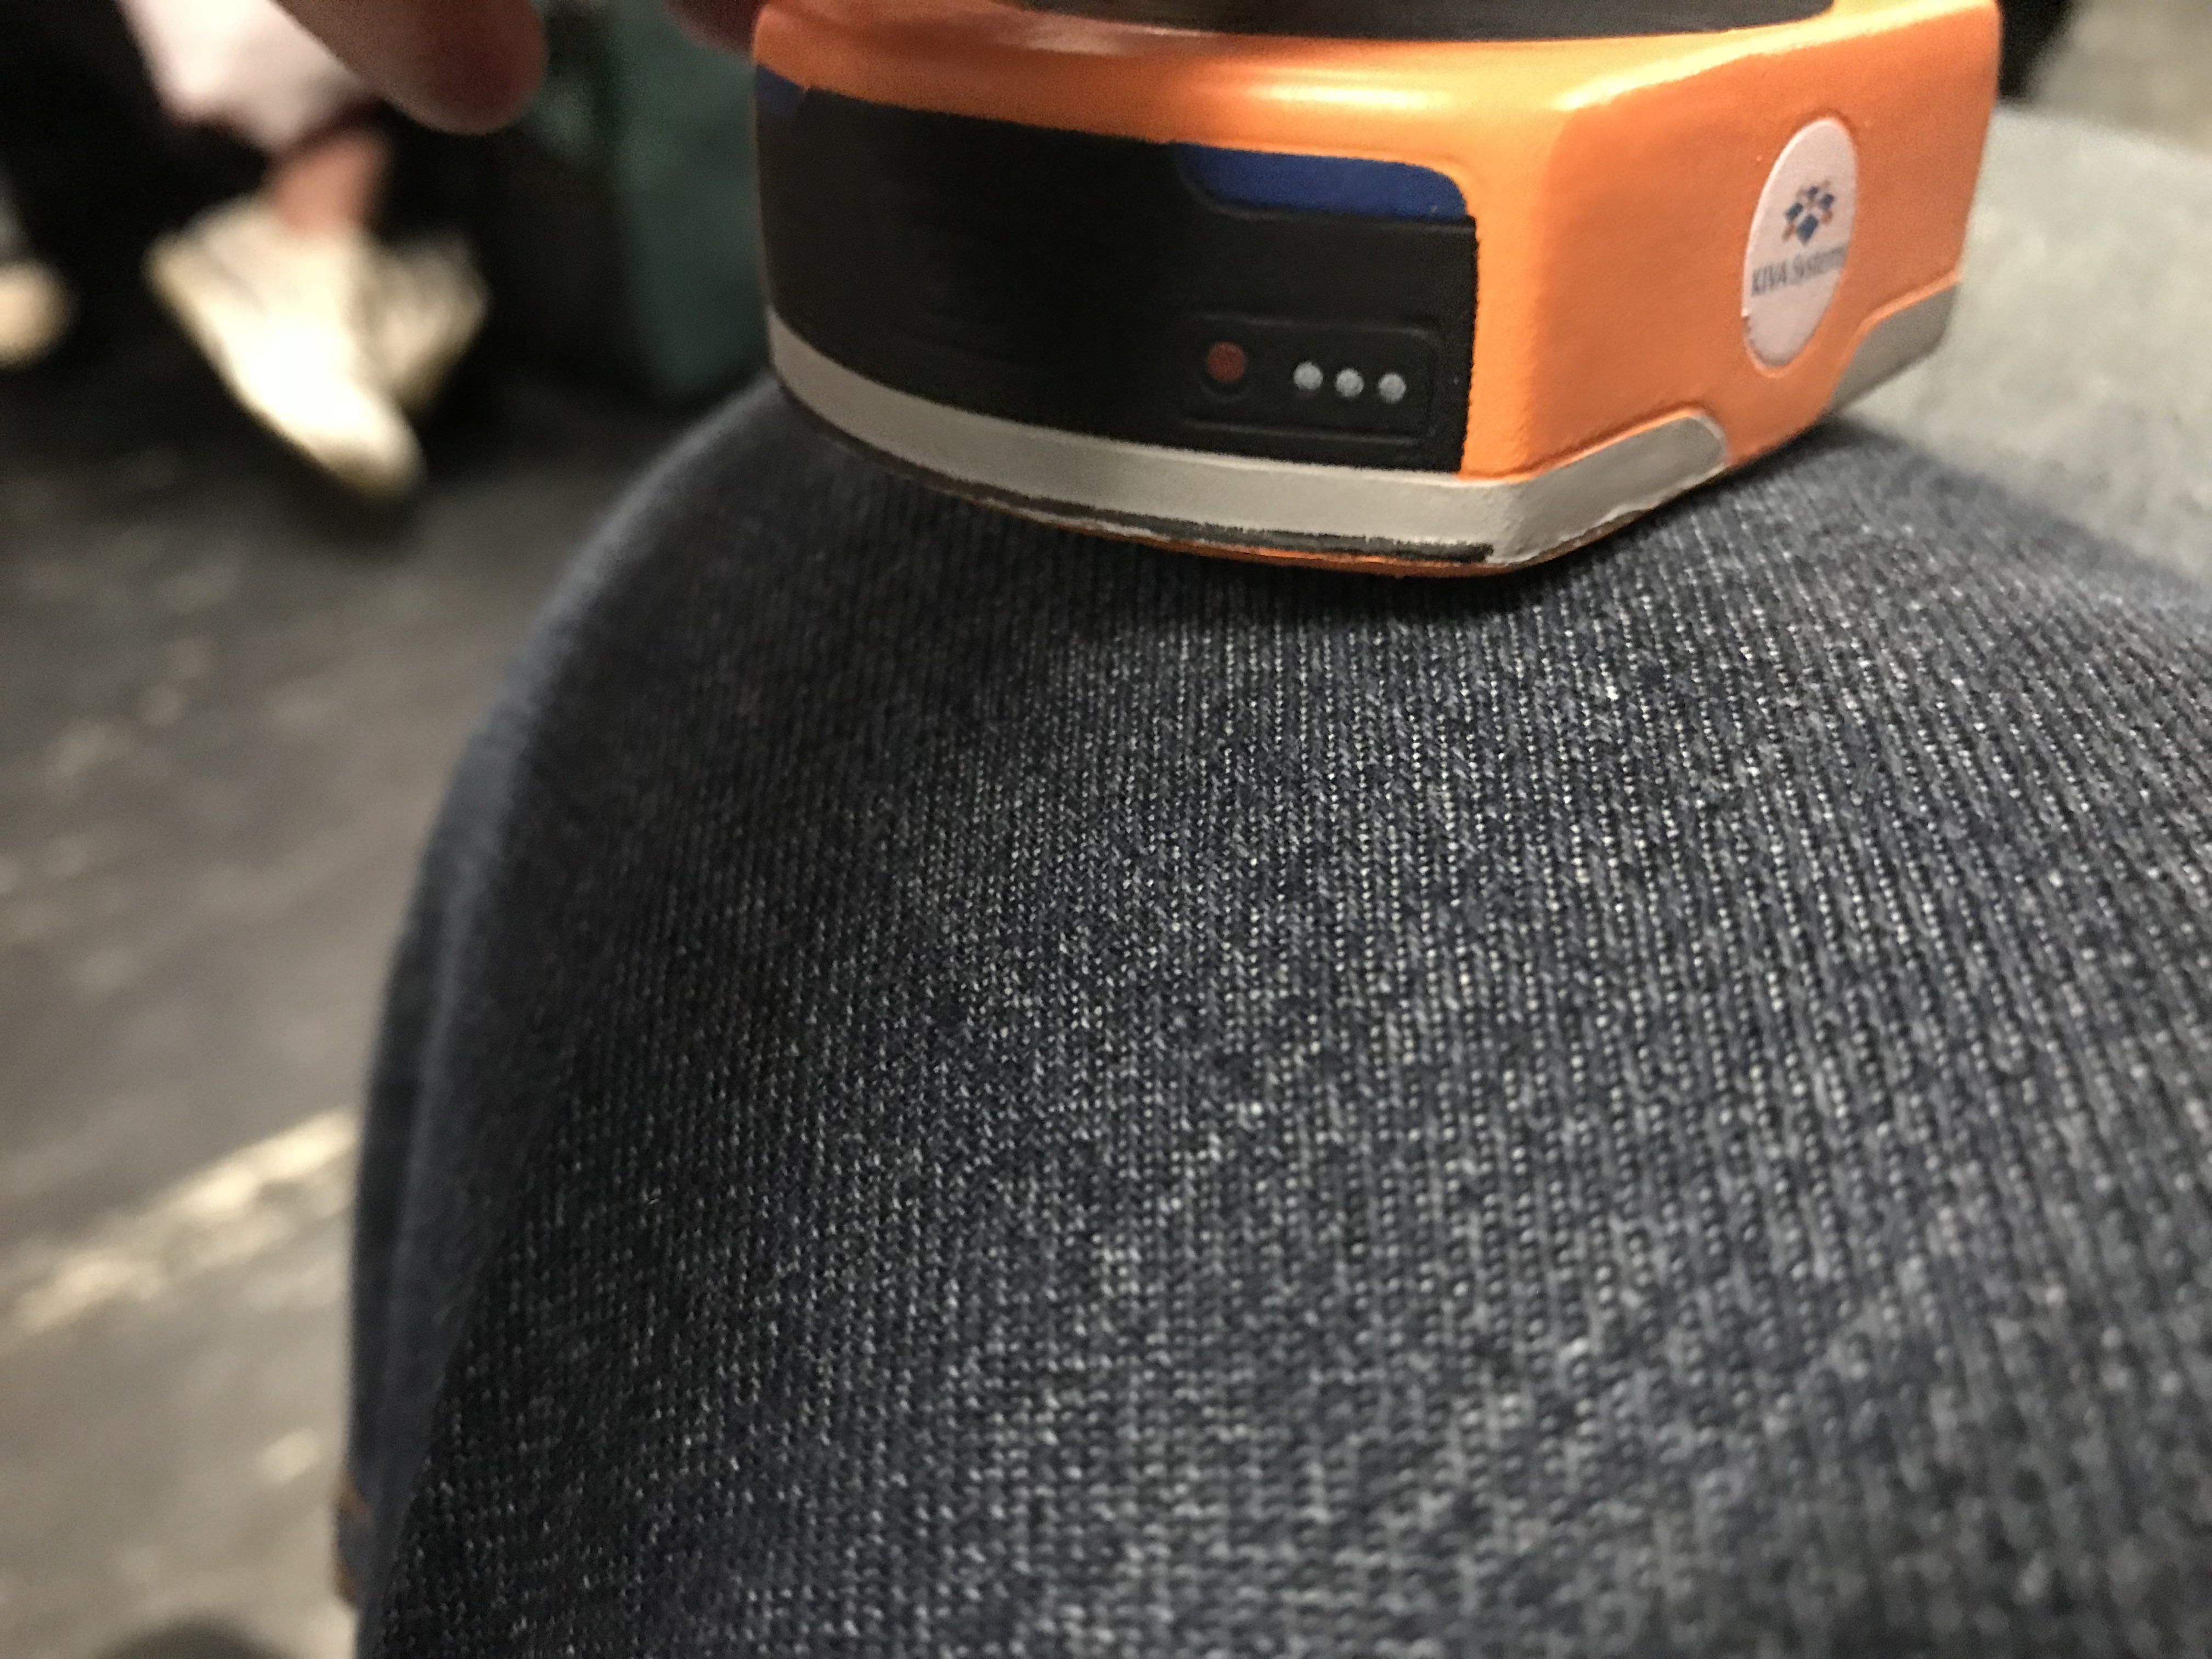amazon_bot: (721, 3, 2015, 596)
